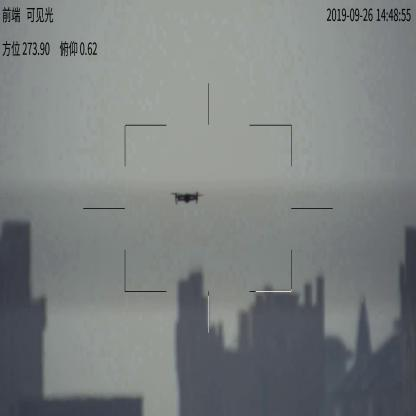uav: (168, 190, 204, 203)
